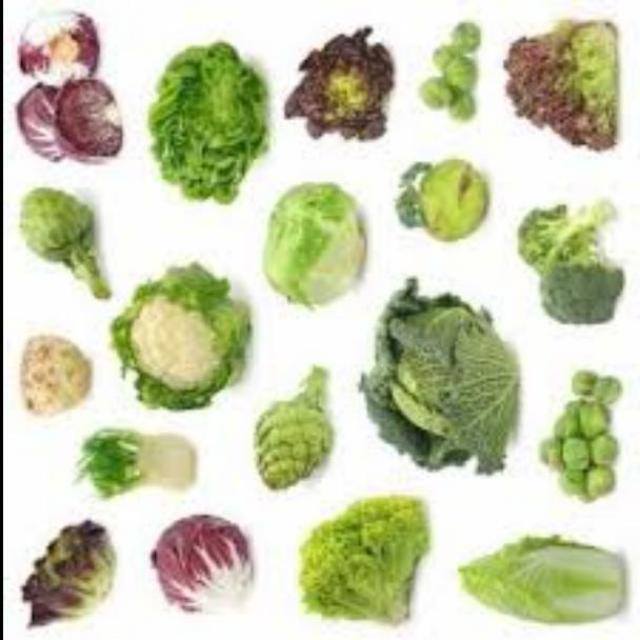Broccoli: (504, 188, 624, 338)
brus capusta: (523, 359, 637, 521), (400, 0, 494, 145)
cabbage: (340, 280, 516, 484), (153, 43, 306, 277), (3, 5, 132, 191), (256, 163, 362, 332), (150, 515, 248, 632)
cayliflower: (99, 257, 255, 417)
salad: (282, 496, 449, 639), (501, 0, 635, 158), (455, 526, 638, 640)
